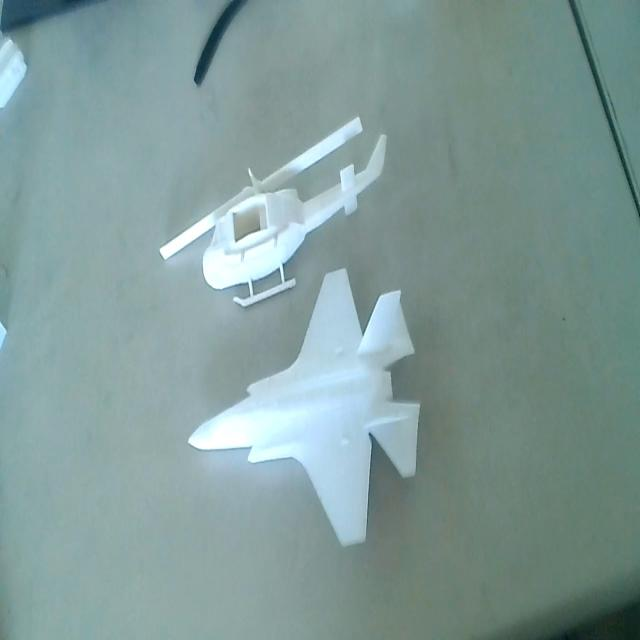Helicopter: (160, 113, 386, 320)
Jet: (190, 266, 428, 549)
